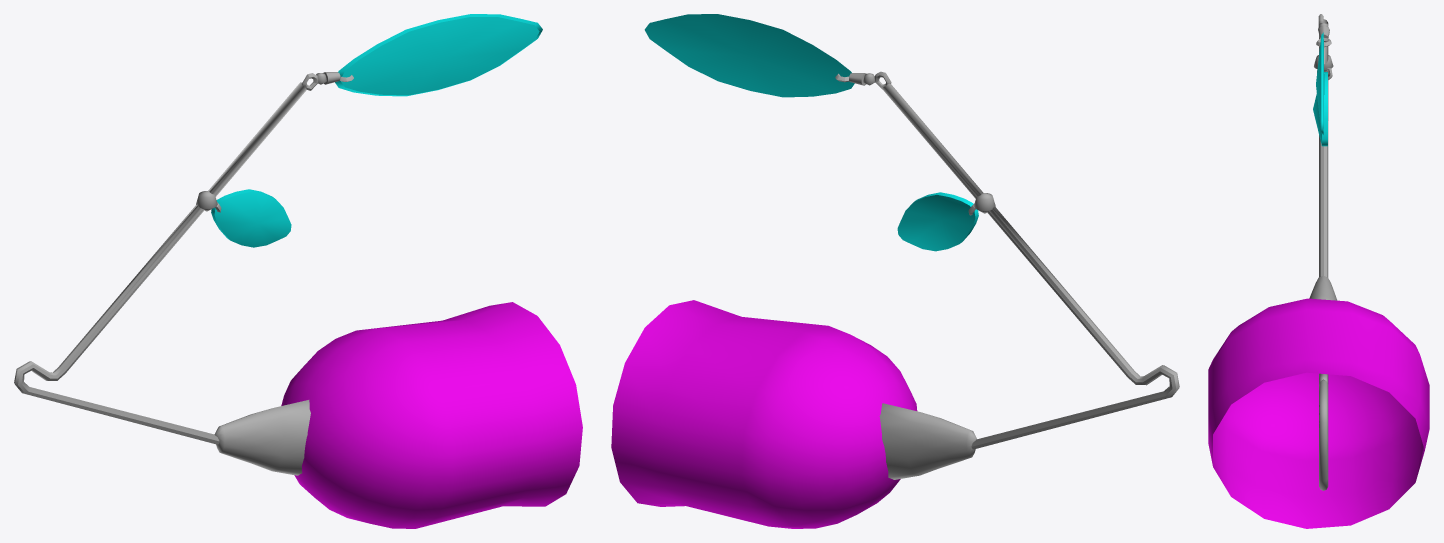
Rendered from Spinner.fbx.
3 views of the same model, side by side, from view 1: azimuth 30°, elevation 25°; view 2: azimuth 150°, elevation 25°; view 3: azimuth 270°, elevation 25° (orthographic). The views are drawn at different scales.
Parts seen in each view (by area): view 1: polySurface415; view 2: polySurface415; view 3: polySurface415.
Boxes of the visible parts, x1=… form: polySurface415: x1=14, y1=14, x2=582, y2=528; polySurface415: x1=611, y1=14, x2=1179, y2=528; polySurface415: x1=1208, y1=14, x2=1429, y2=528.
Size of the model in its own units: 0.1576 by 0.1402 by 0.0634.
